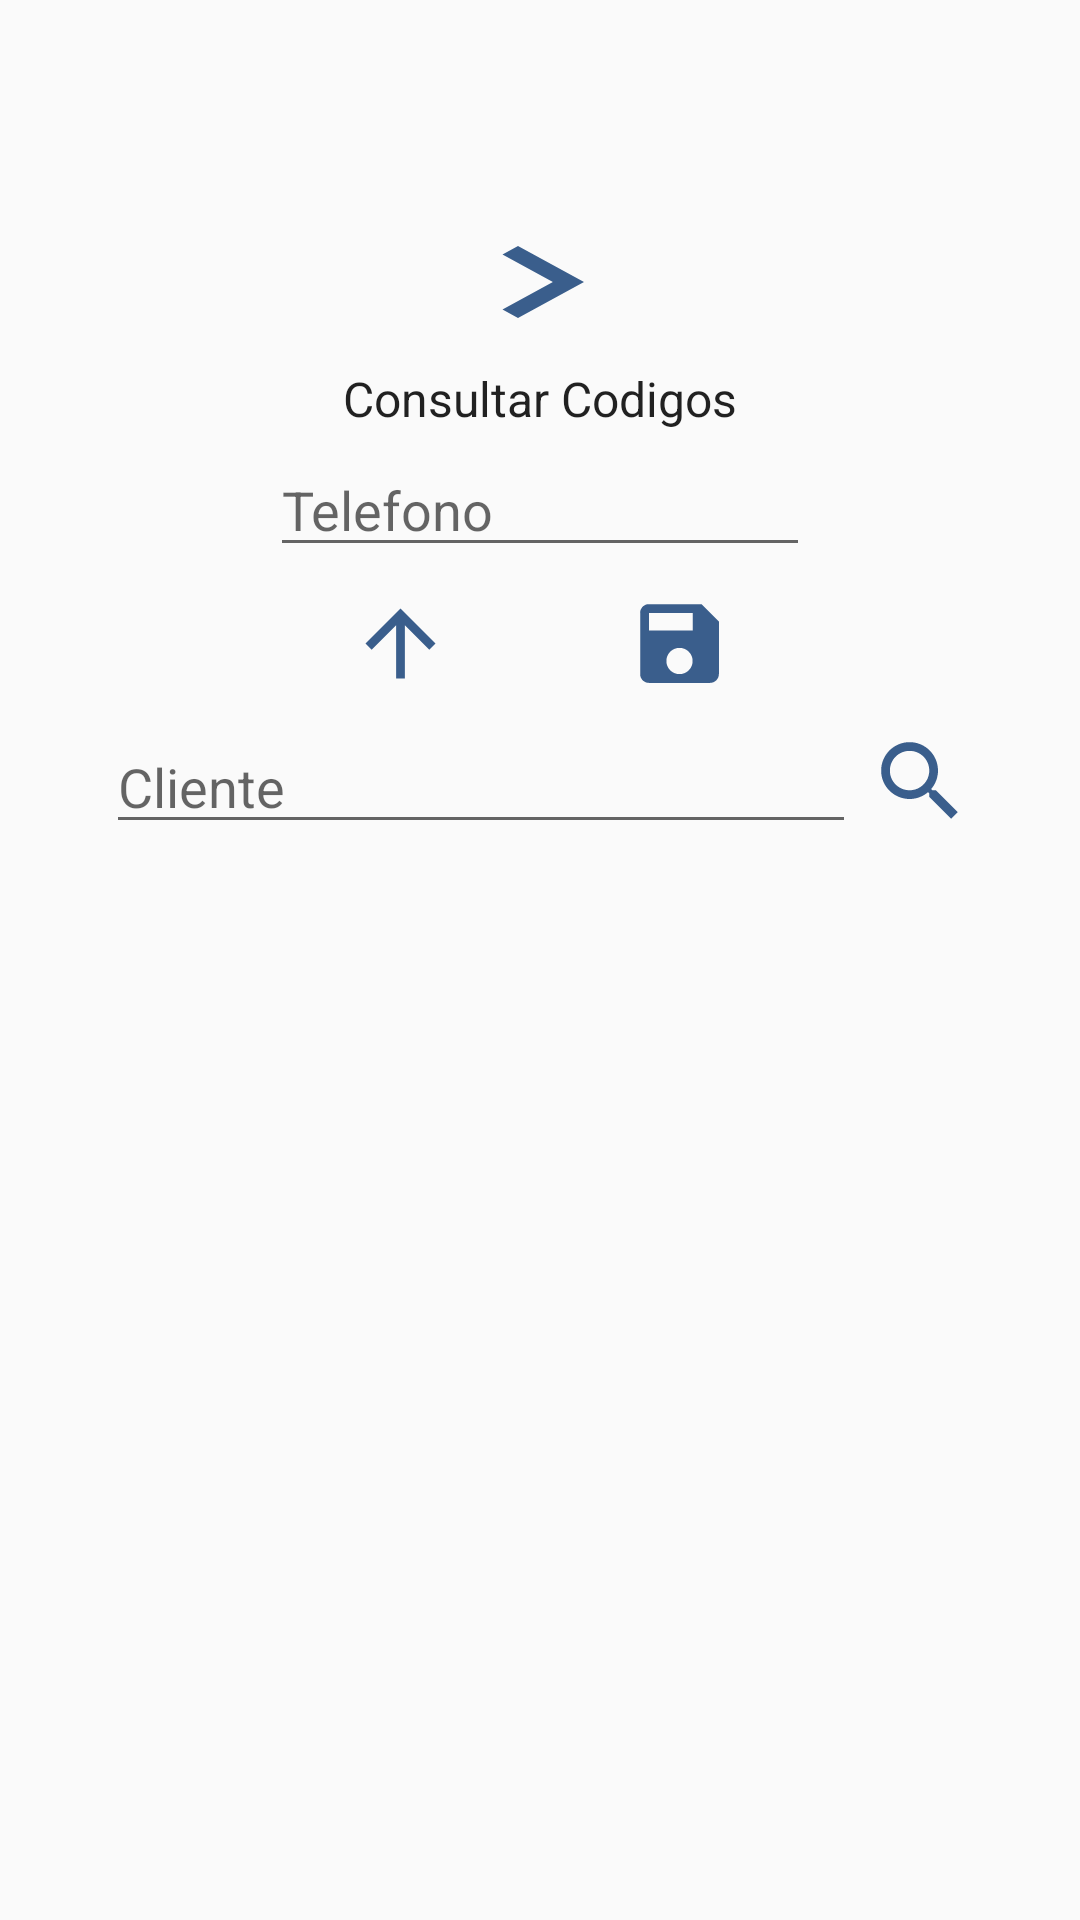

Locate icon controls on the screen. Image size 1080 x 1920, boxes as [x1=x1, y1=y1, x2=x2, y2=y2].
gua: [x1=640, y1=604, x2=719, y2=683]
search: [x1=881, y1=742, x2=958, y2=819]
sig: [x1=502, y1=246, x2=584, y2=318]
